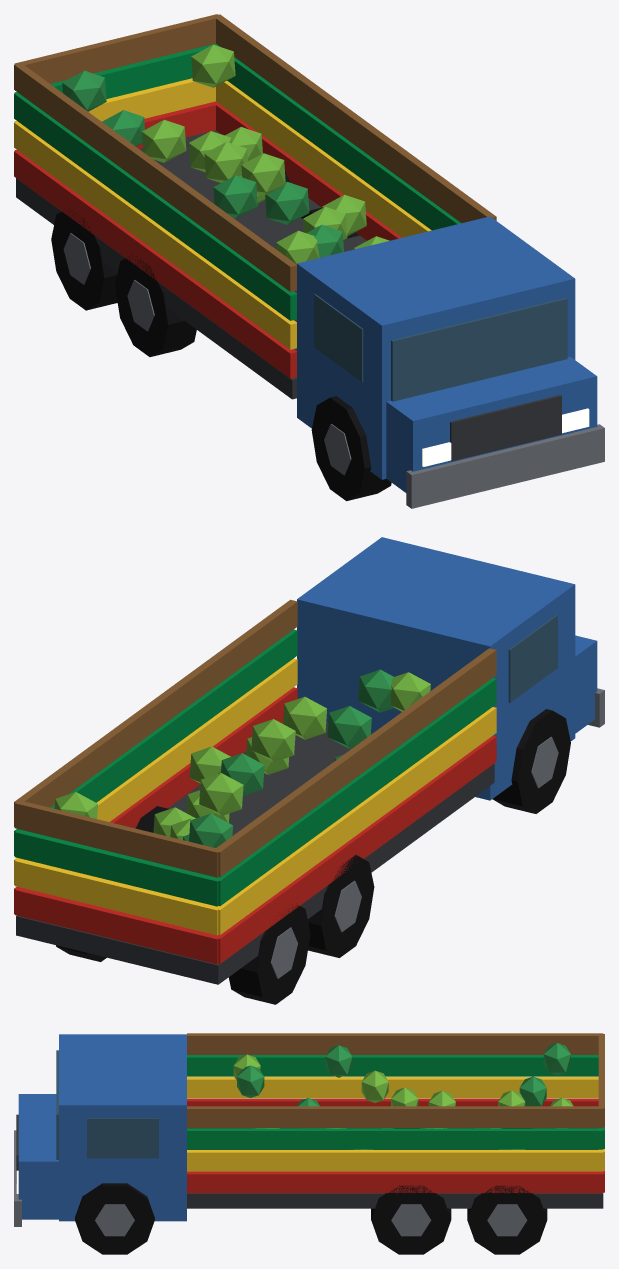
Rendered from Camion de carga.fbx.
The picture shows the model from 3 angles, top to bottom: view 1: azimuth 30°, elevation 25°; view 2: azimuth 150°, elevation 25°; view 3: azimuth 270°, elevation 25°; orthographic projection. The views are drawn at different scales.
Visible parts, largest first — view 1: Camion de carga; view 2: Camion de carga; view 3: Camion de carga.
Part boxes in pixels (x1,y1,x2,y2): Camion de carga: (14, 14, 604, 508); Camion de carga: (14, 537, 604, 1004); Camion de carga: (14, 1033, 604, 1254).
Bounding box in the file's own units: 2.26 × 2.08 × 7.38.
